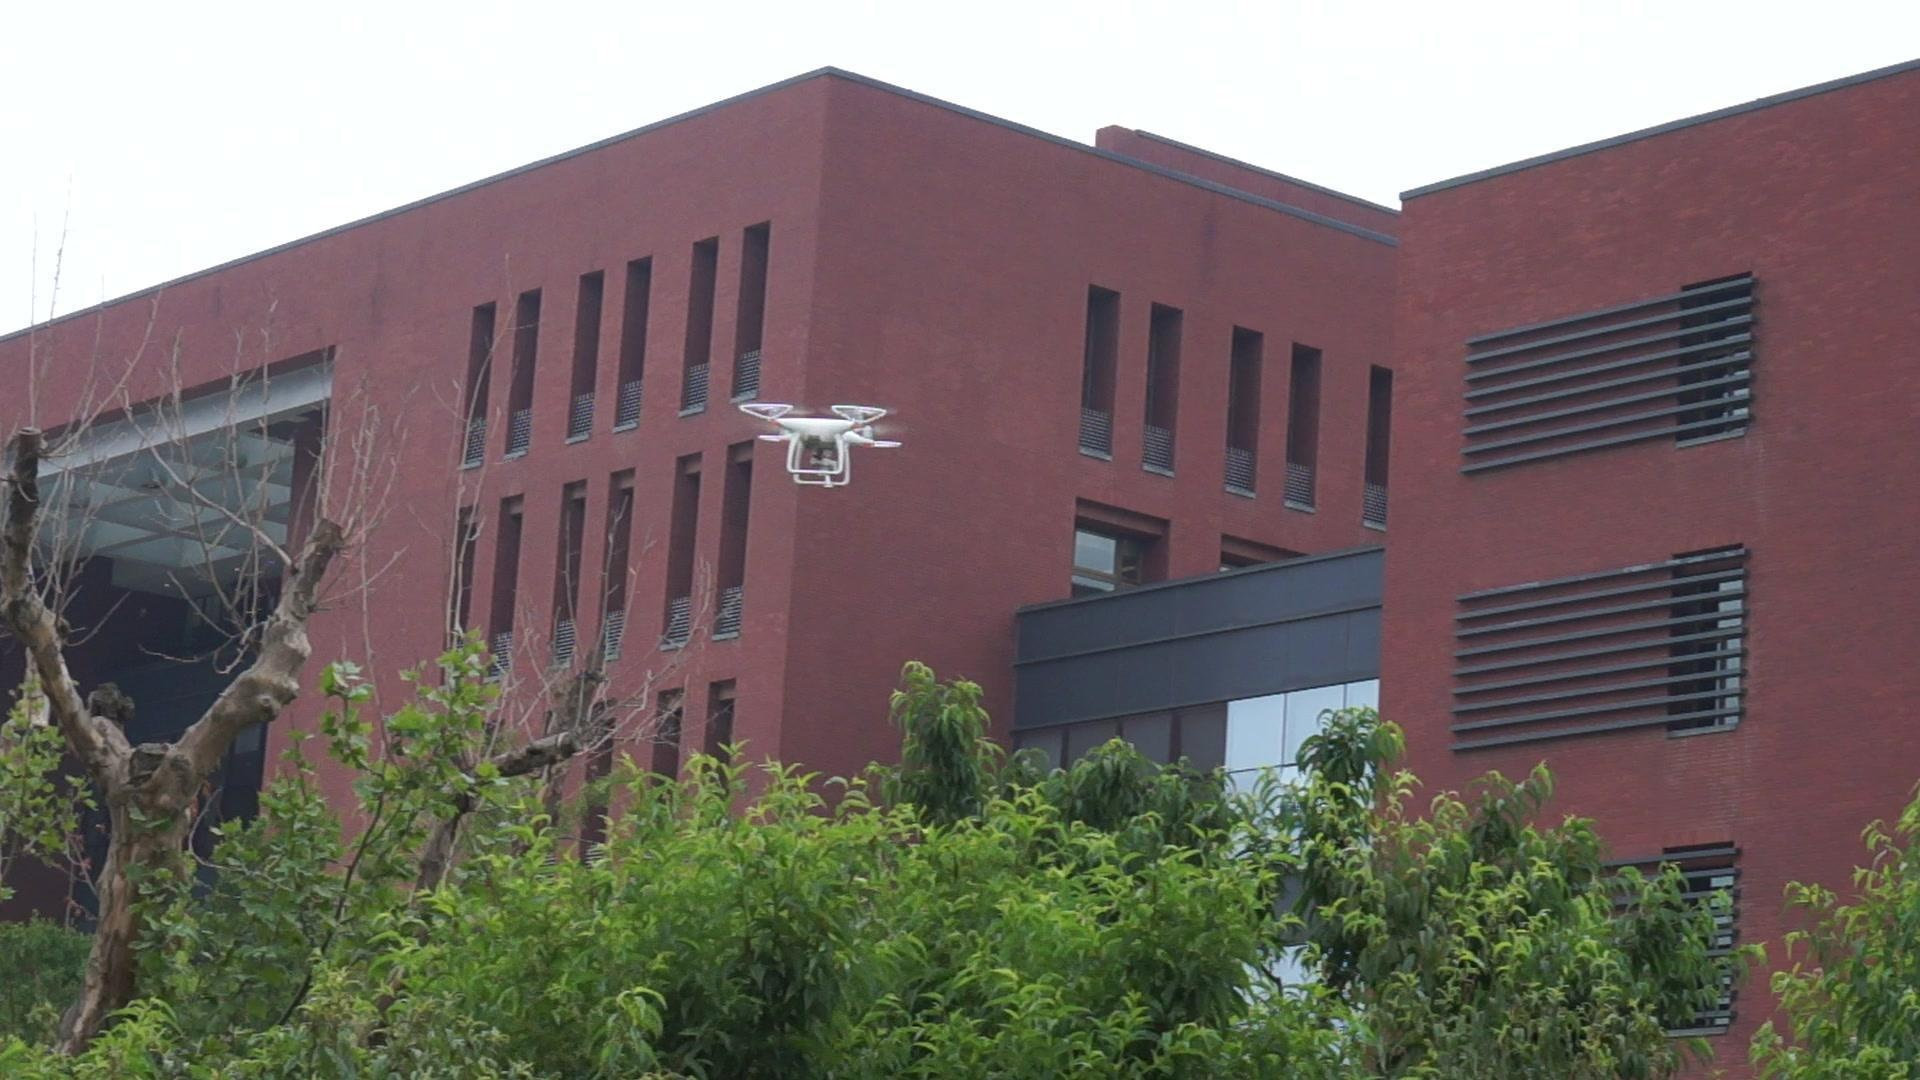UAV: (738, 404, 903, 491)
